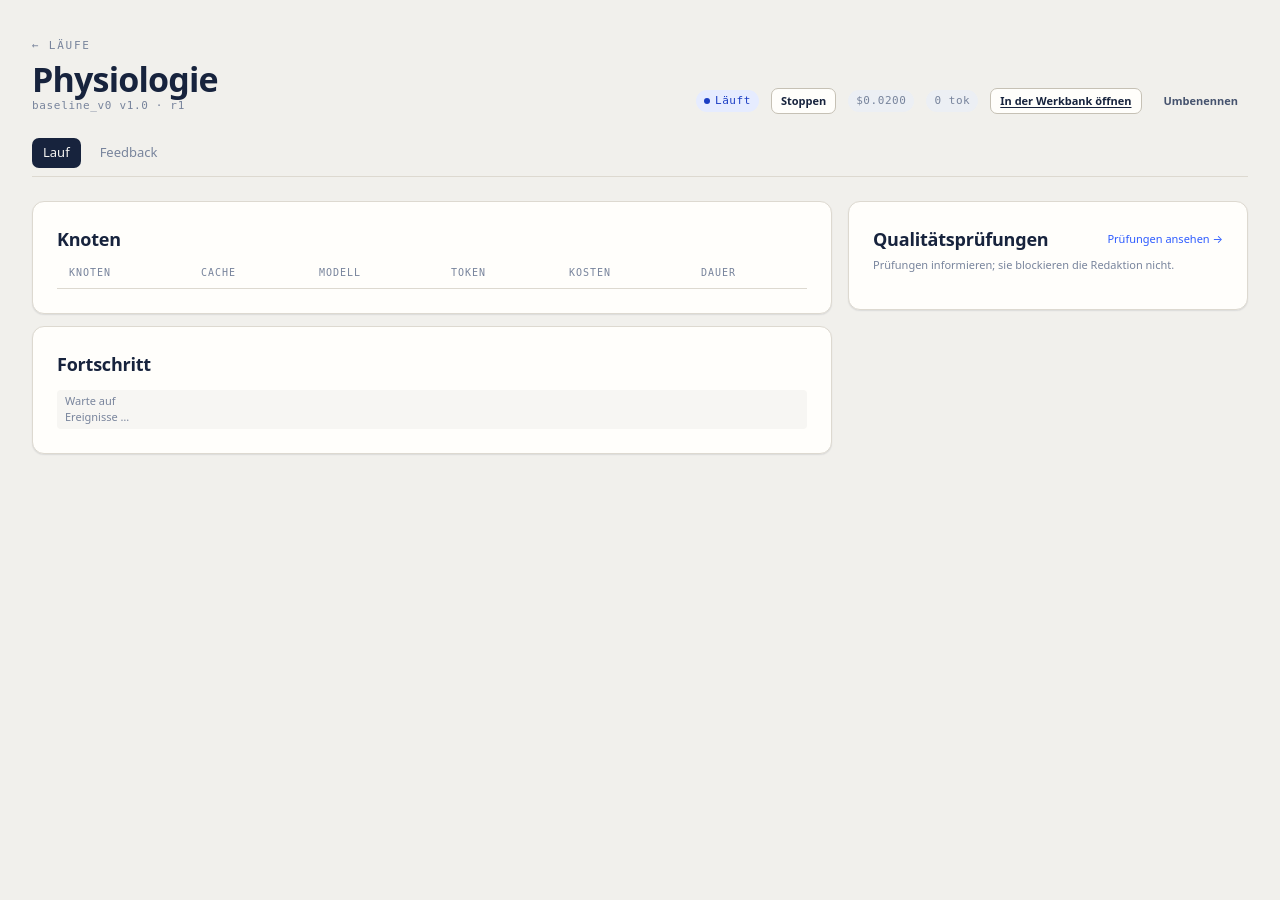
Scenario: run detail › asks in the page before stopping a running run
Click the button "Stoppen": (804, 101) x1=771 y1=88 x2=836 y2=114
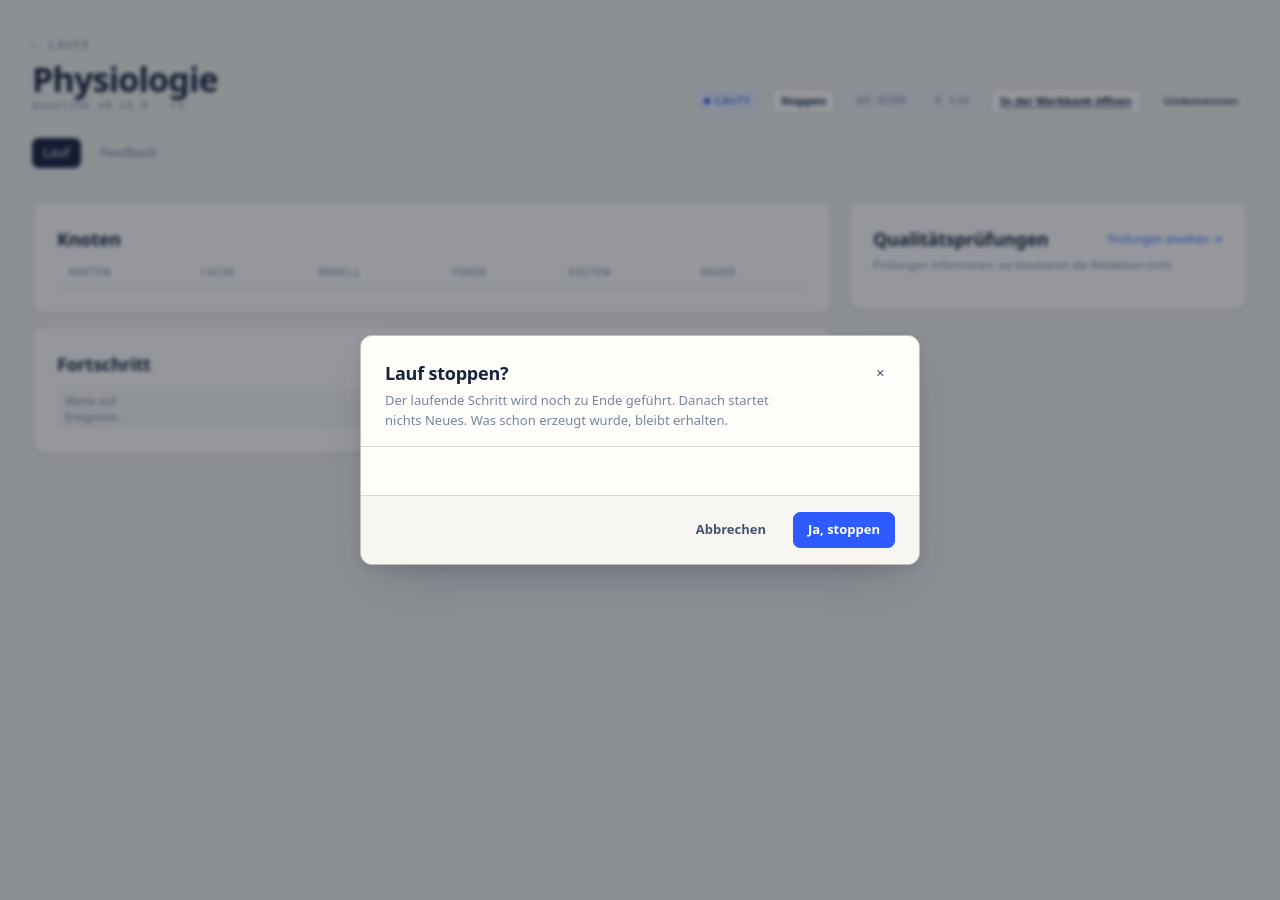
Now the text "Lauf stoppen?" is shown, box x1=385 y1=361 x2=508 y2=385
Now the text "Abbrechen" is shown, box x1=681 y1=512 x2=781 y2=548
Click the button "Ja, stoppen": (844, 530) x1=793 y1=512 x2=895 y2=548
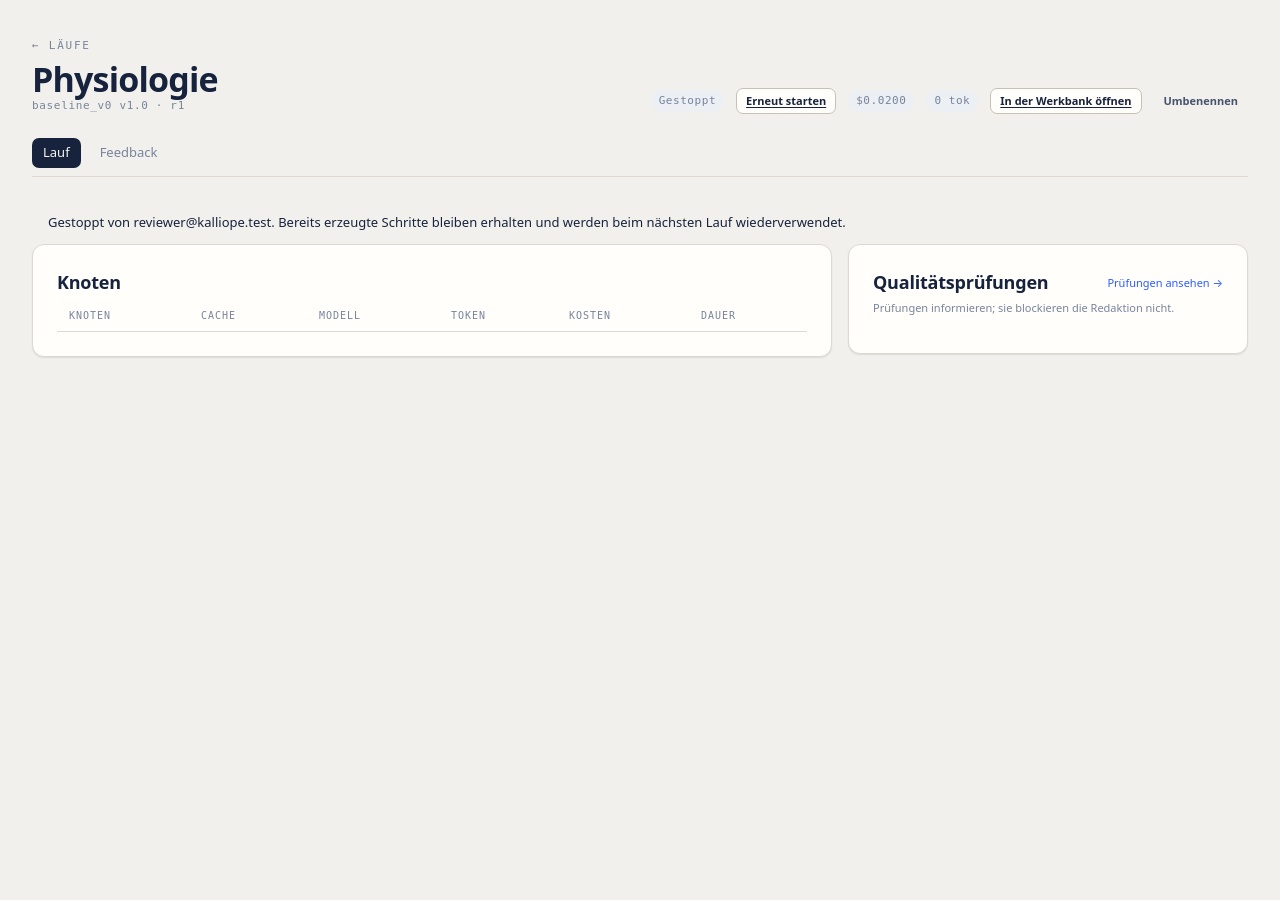
Now the text with class "badge--idle" reads "Gestoppt", box x1=659 y1=94 x2=716 y2=107
Now the text "Gestoppt von reviewer@kalliope.test" is shown, box x1=48 y1=213 x2=846 y2=231
Now the link "Erneut starten" is shown, box x1=736 y1=88 x2=836 y2=114
